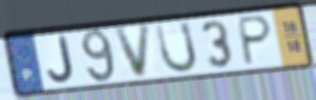3: (199, 19, 235, 70)
9: (78, 28, 117, 85)
J: (46, 34, 77, 85)
P: (237, 14, 275, 68)
U: (153, 19, 200, 76)
V: (112, 22, 154, 81)
